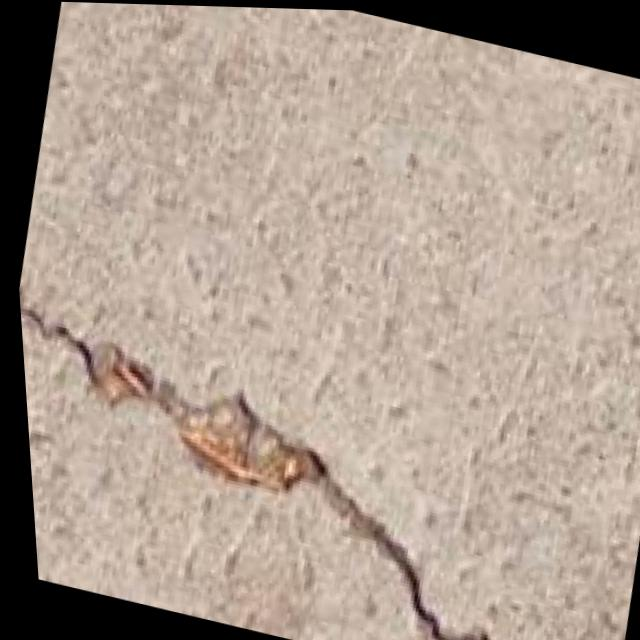Crack: (12, 238, 640, 640)
